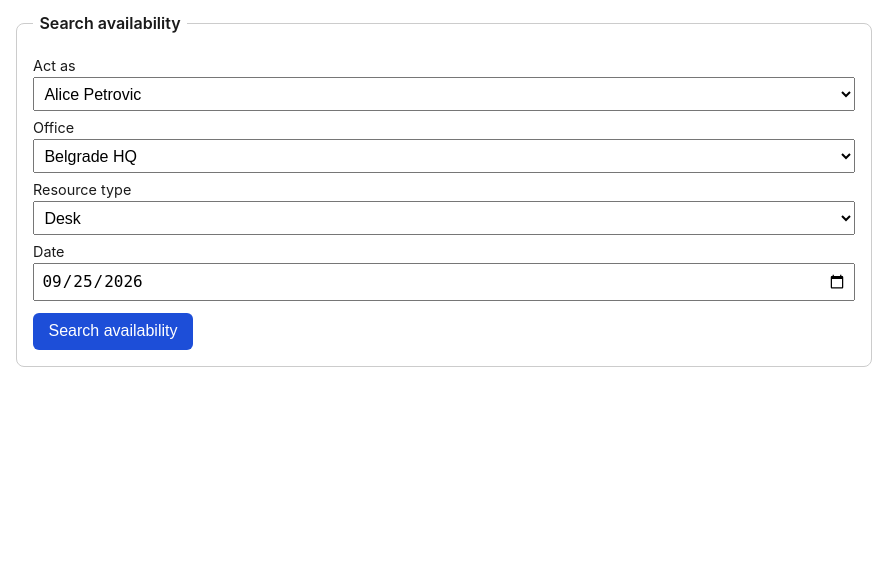
it: SearchPanel (TASK-17 §A, booking creation rendering) › maps a booking conflict (409) to the existing distinguishable error message, not a raw dump
Click the button "Search availability": x=113, y=332 [33, 313, 193, 350]
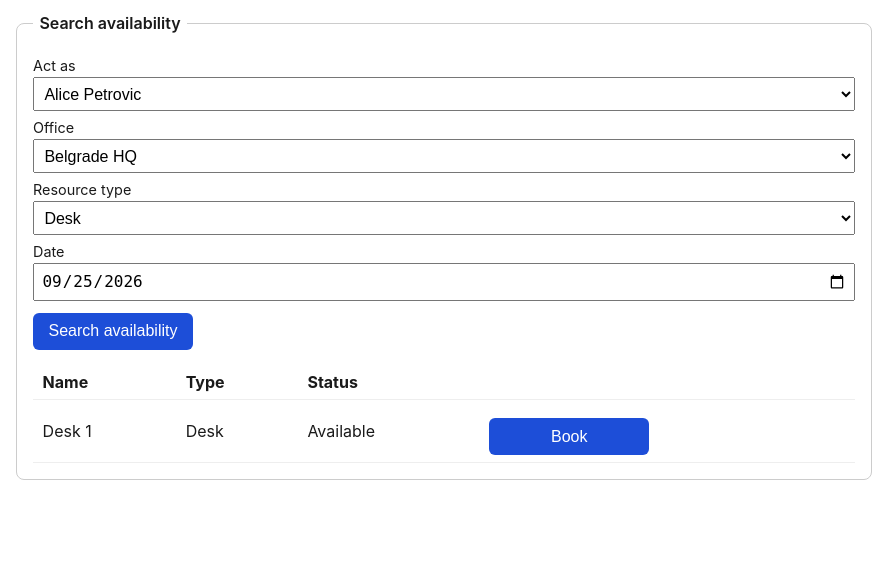
Expected: the text "Desk 1" is shown, [33, 399, 176, 462]
Click the button "Book": x=569, y=437 [489, 418, 649, 455]
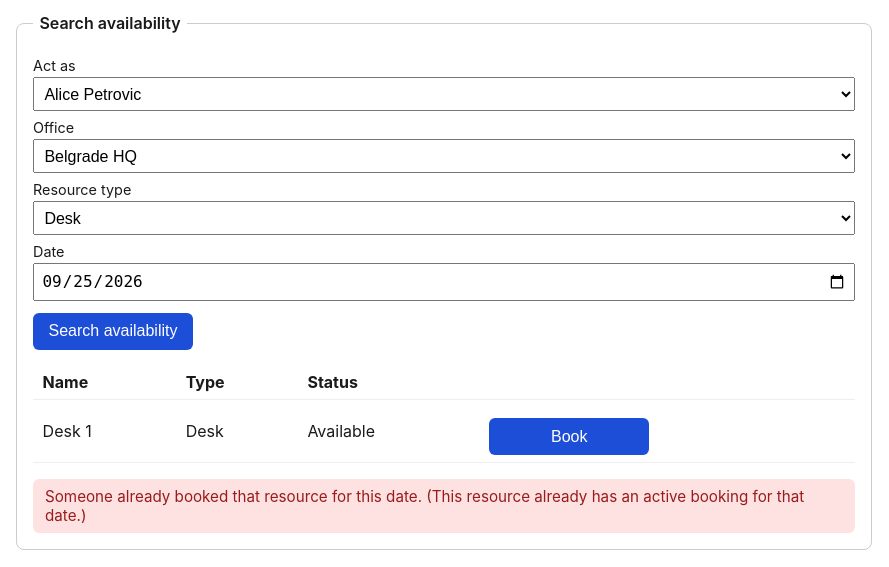
Expected: the text "Someone already booked that resource for this date" is shown, [45, 487, 808, 525]
